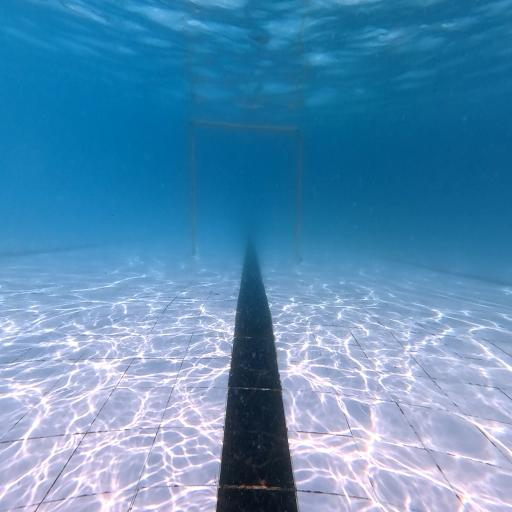gate: (190, 120, 302, 263)
